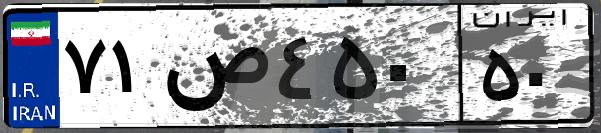0: (385, 28, 445, 110), (525, 38, 570, 115)
1: (110, 28, 158, 98)
4: (270, 28, 330, 110)
5: (330, 28, 385, 110), (475, 38, 525, 113)
7: (57, 26, 110, 100)
ص: (158, 20, 270, 120)
